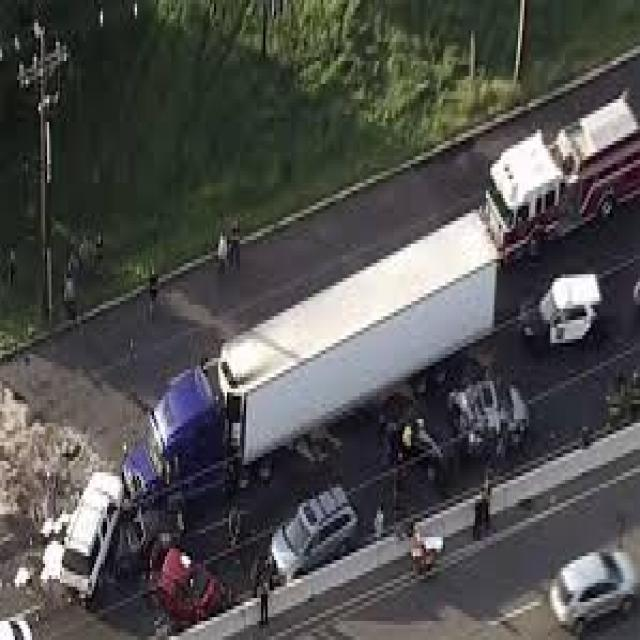accident: (22, 423, 175, 617), (404, 366, 557, 468), (136, 517, 252, 632)
